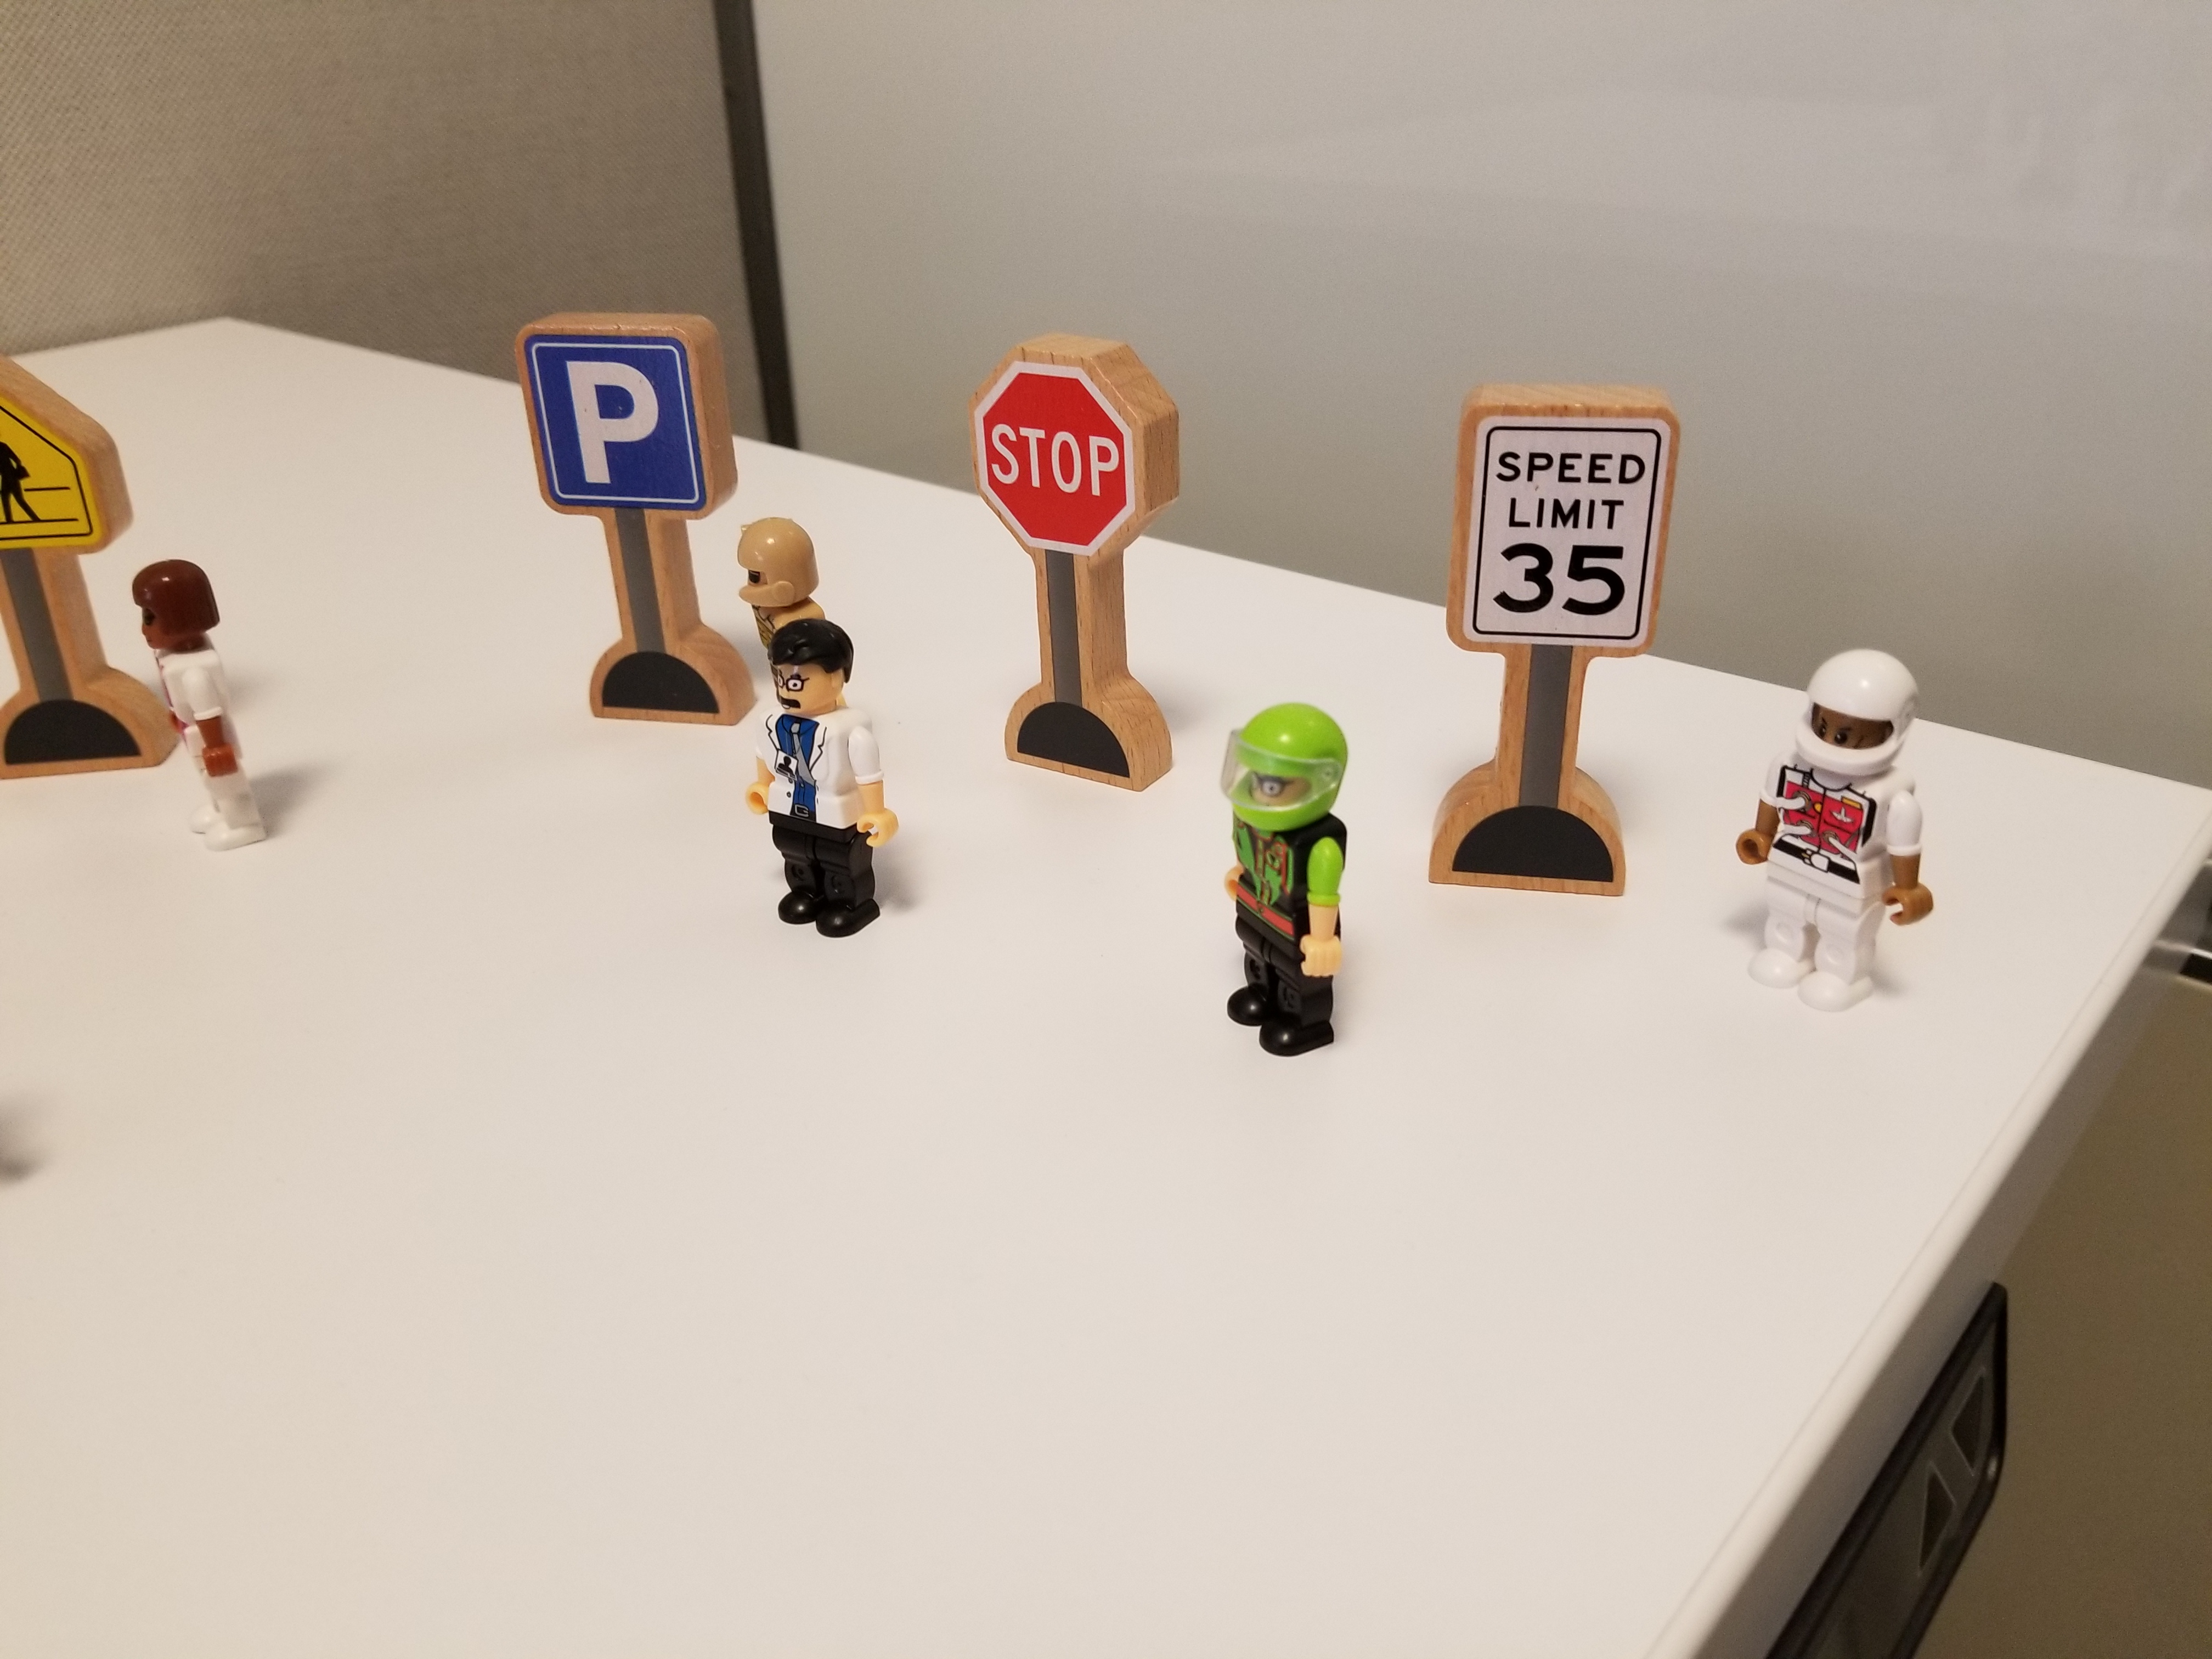Parking: (519, 297, 741, 736)
Speed limit 35: (1443, 357, 1713, 940)
Stop: (971, 315, 1190, 824)
person: (1743, 613, 1943, 1041), (1184, 679, 1377, 1111), (732, 605, 929, 978), (113, 528, 286, 885), (712, 508, 831, 622)
